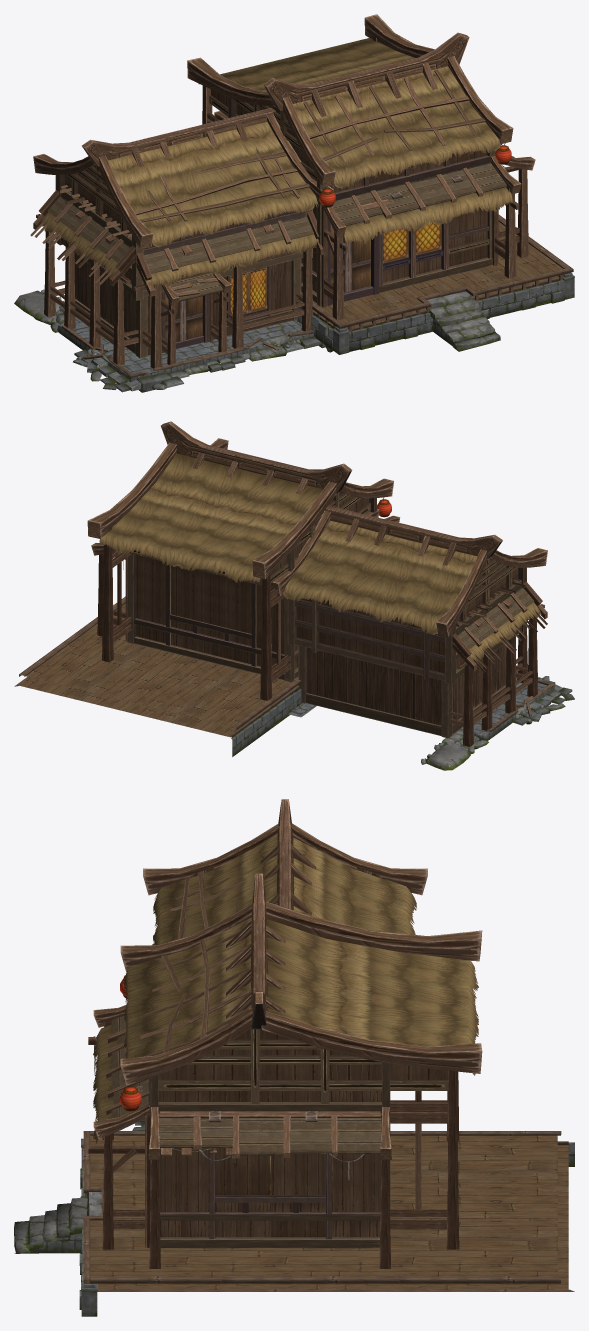
The model's file is room003.FBX.
3 views of the same model, one above another, from view 1: azimuth 30°, elevation 25°; view 2: azimuth 150°, elevation 25°; view 3: azimuth 270°, elevation 25° (orthographic). The views are drawn at different scales.
Parts seen in each view (by area): view 1: room003_02, room003_01, room003_03, room003_04, room003_05; view 2: room003_02, room003_01, room003_04, room003_05, room003_03; view 3: room003_02, room003_01, room003_05, room003_04, room003_03.
Part boxes in pixels (x1=…): room003_02: x1=30, y1=35, x2=528, y2=368; room003_01: x1=33, y1=14, x2=535, y2=358; room003_03: x1=14, y1=214, x2=574, y2=392; room003_04: x1=65, y1=89, x2=511, y2=341; room003_05: x1=301, y1=222, x2=562, y2=329; room003_02: x1=97, y1=453, x2=547, y2=746; room003_01: x1=87, y1=421, x2=547, y2=738; room003_04: x1=123, y1=491, x2=518, y2=725; room003_05: x1=19, y1=603, x2=298, y2=737; room003_03: x1=14, y1=596, x2=574, y2=770; room003_02: x1=88, y1=834, x2=478, y2=1268; room003_01: x1=93, y1=799, x2=482, y2=1248; room003_05: x1=90, y1=1135, x2=568, y2=1289; room003_04: x1=93, y1=867, x2=448, y2=1237; room003_03: x1=14, y1=1120, x2=574, y2=1316.
Bounding box in the file's own units: 16.54 × 8.42 × 13.88.
